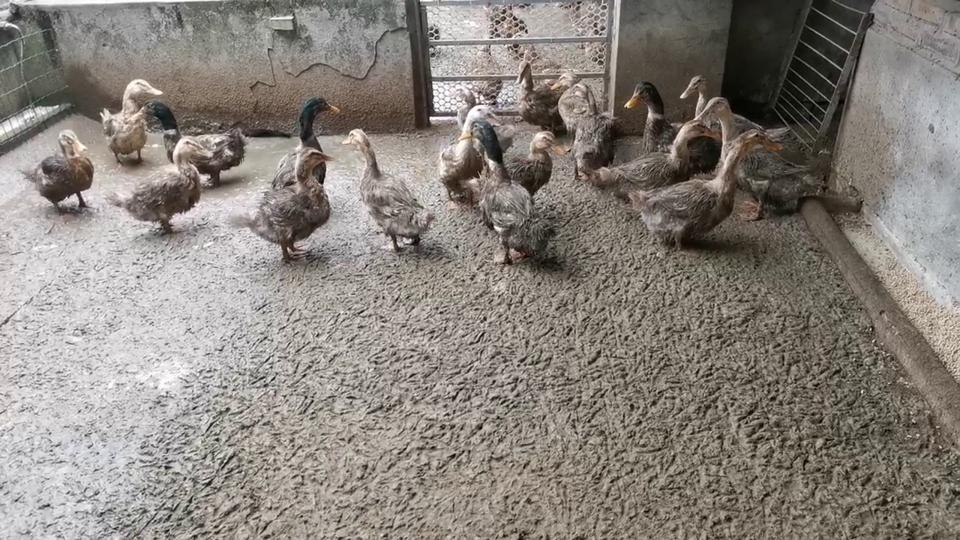duck: (633, 124, 788, 247), (703, 99, 839, 223), (466, 124, 561, 267), (346, 130, 433, 256), (250, 152, 342, 266), (113, 138, 214, 237), (610, 114, 725, 199), (136, 104, 248, 190), (559, 78, 619, 185), (619, 76, 683, 175), (31, 132, 105, 217), (280, 94, 340, 196), (443, 105, 503, 204), (104, 75, 162, 169), (515, 63, 590, 135), (502, 129, 569, 203), (471, 29, 509, 103), (514, 32, 576, 73), (677, 74, 726, 109), (430, 82, 478, 116), (581, 12, 606, 70), (490, 8, 530, 39)
